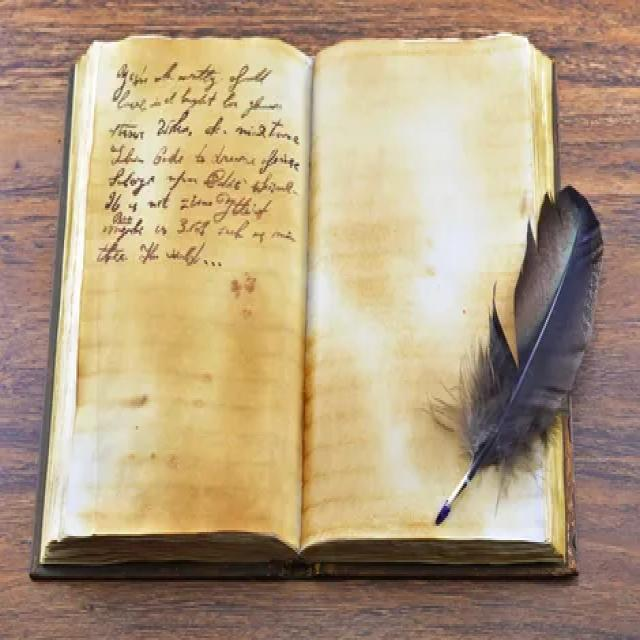book: (31, 21, 583, 598)
